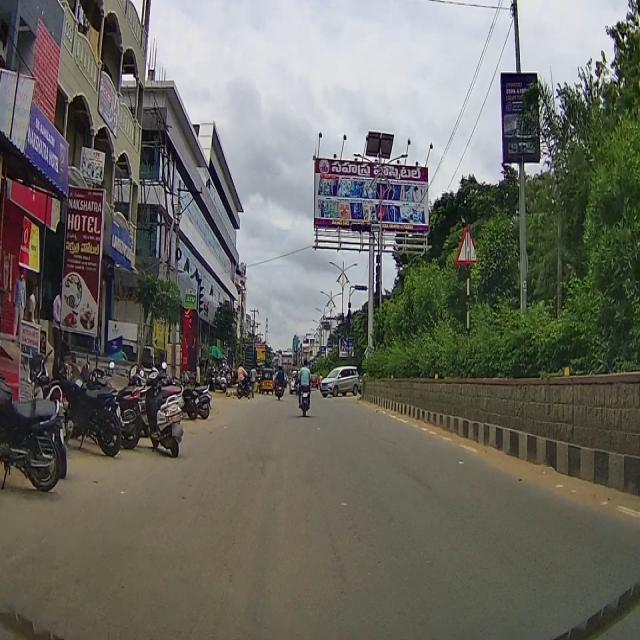gap-in-median: (459, 224, 479, 262)
